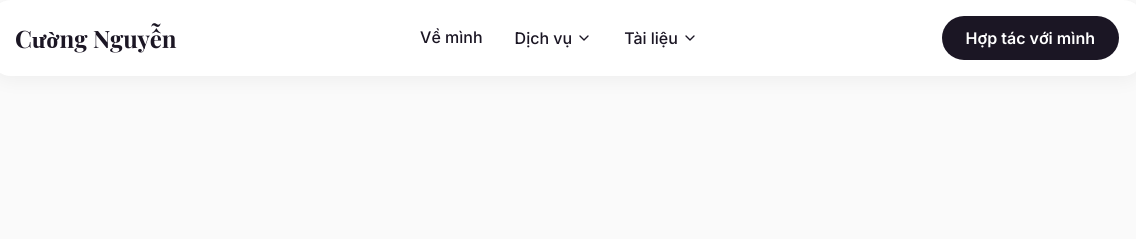
Test case: Header — dropdowns › clicking Services button opens the Services dropdown
Click the button "Dịch vụ" at (553, 38), box [515, 28, 592, 48]
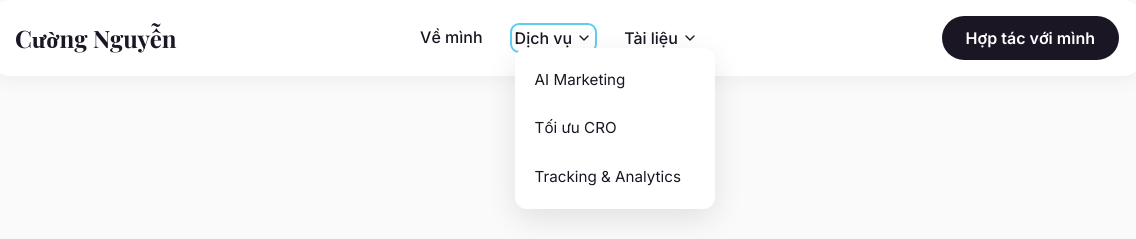
Check: the link "AI Marketing" is shown, box [535, 70, 625, 89]
